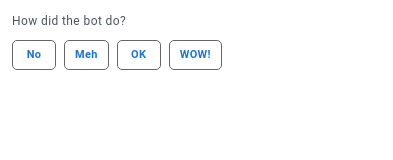
Test: MessageFeedback Component › shows 'Say more' message after rating selection
Click the radio button labelled "Meh": click(86, 55) [64,40,109,70]
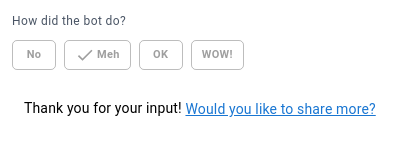
Now the text "Thank you for your input!" is shown, box [24,100,182,116]
Now the button "Would you like to share more?" is shown, box [186,99,376,119]
